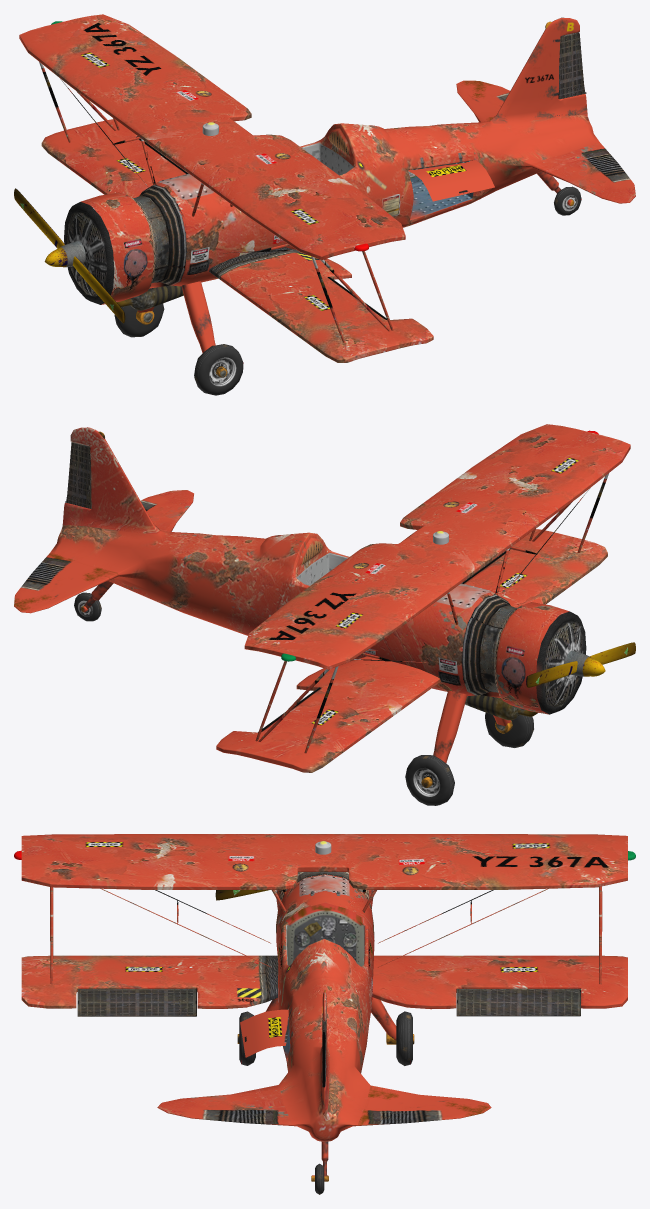
Rendered from airplane.fbx.
3 renders of one model, top to bottom at view 1: azimuth 30°, elevation 25°; view 2: azimuth 150°, elevation 25°; view 3: azimuth 270°, elevation 25°, orthographic.
Parts seen in each view (by area): view 1: biplano_last:pCylinder32, polySurface5, prop_biplane_last:polySurface27, polySurface1, polySurface6, polySurface2, polySurface3; view 2: biplano_last:pCylinder32, polySurface2, prop_biplane_last:polySurface27, polySurface6, polySurface1, polySurface3; view 3: biplano_last:pCylinder32, polySurface7, polySurface4, polySurface5, polySurface2.
Part boxes in pixels (box(x1,y1,x2,y2)): biplano_last:pCylinder32: box(19, 14, 635, 377); polySurface5: box(408, 160, 494, 201); prop_biplane_last:polySurface27: box(14, 188, 125, 323); polySurface1: box(194, 344, 243, 395); polySurface6: box(558, 32, 586, 99); polySurface2: box(114, 303, 164, 337); polySurface3: box(554, 186, 581, 215); biplano_last:pCylinder32: box(14, 424, 630, 787); polySurface2: box(405, 755, 454, 805); prop_biplane_last:polySurface27: box(526, 642, 635, 687); polySurface6: box(65, 442, 91, 508); polySurface1: box(485, 712, 533, 747); polySurface3: box(74, 592, 101, 621); biplano_last:pCylinder32: box(14, 834, 635, 1181); polySurface7: box(456, 989, 580, 1016); polySurface4: box(77, 989, 196, 1016); polySurface5: box(240, 1009, 289, 1057); polySurface2: box(396, 1011, 412, 1065).
Size of the model in its own units: 15.04 by 6.74 by 14.86.
4 materials, 4 textured.
